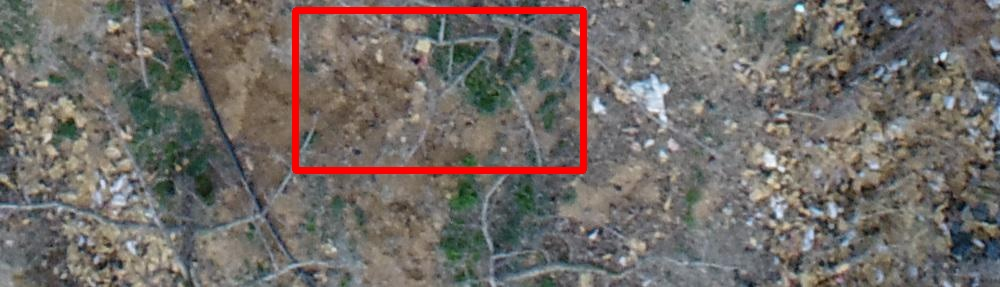apple: (295, 10, 583, 170)
